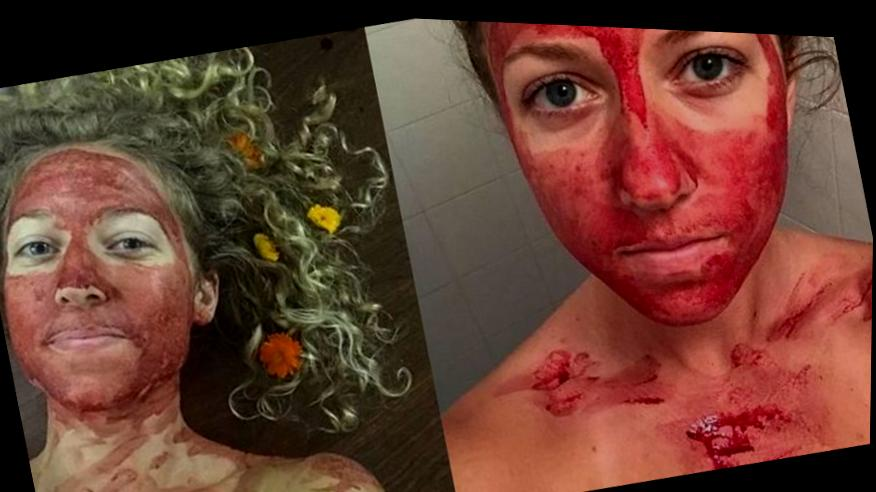Fire: (486, 17, 874, 468), (3, 144, 387, 492)
